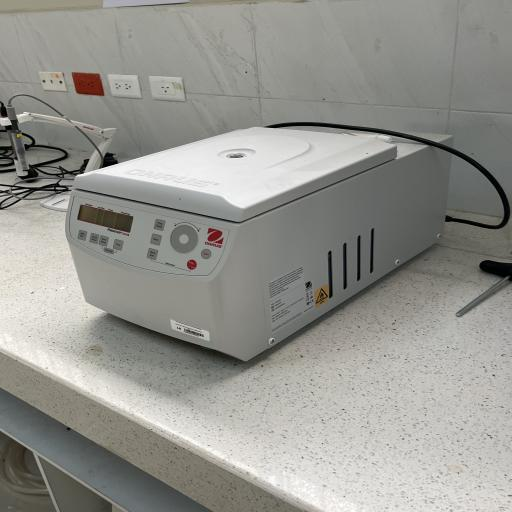Centrifuga_Ohaus_Frontier: (44, 109, 468, 368)
